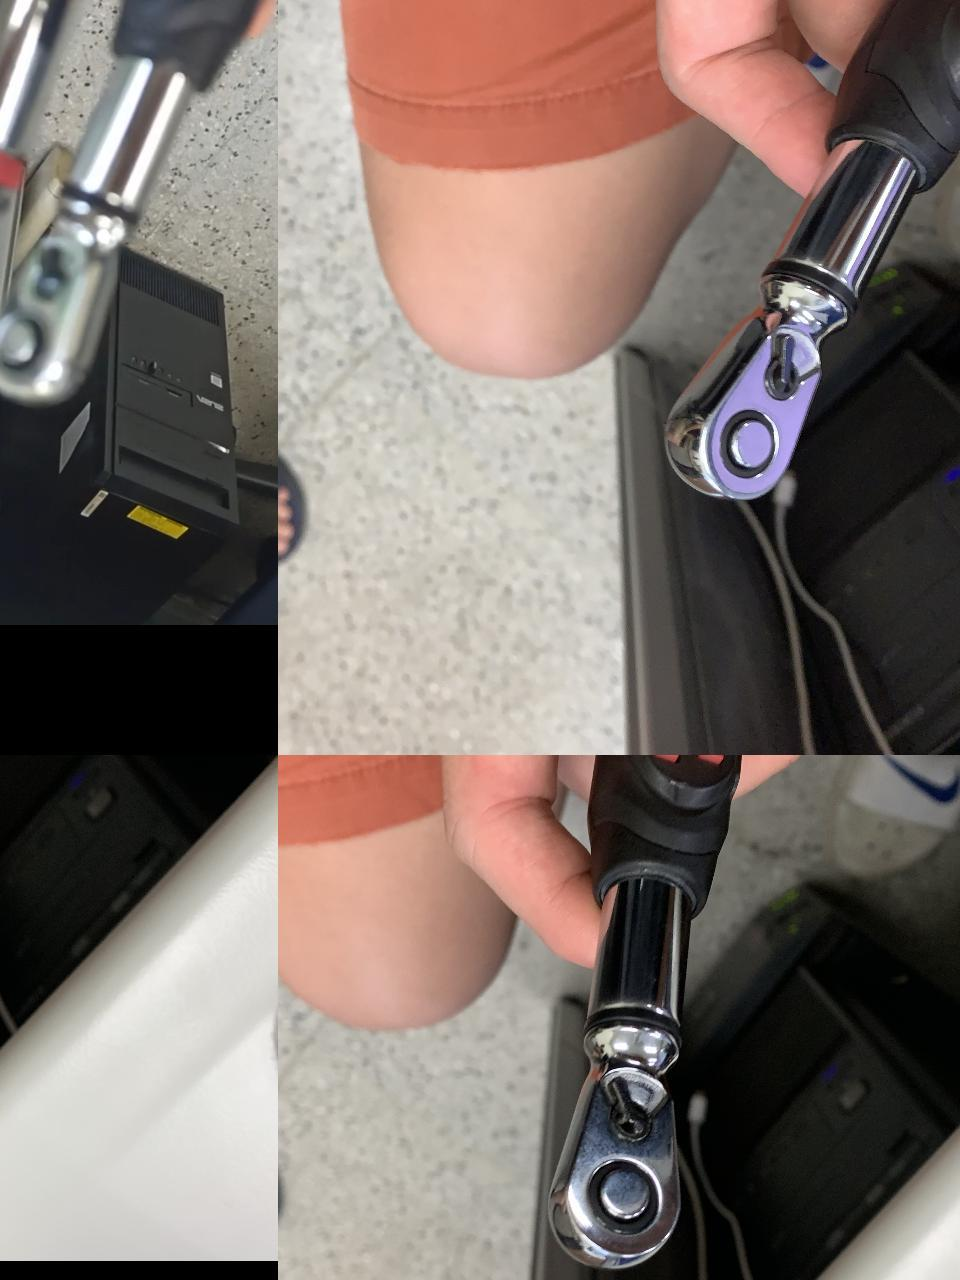Tool: (656, 260, 853, 502), (560, 1017, 699, 1258)
